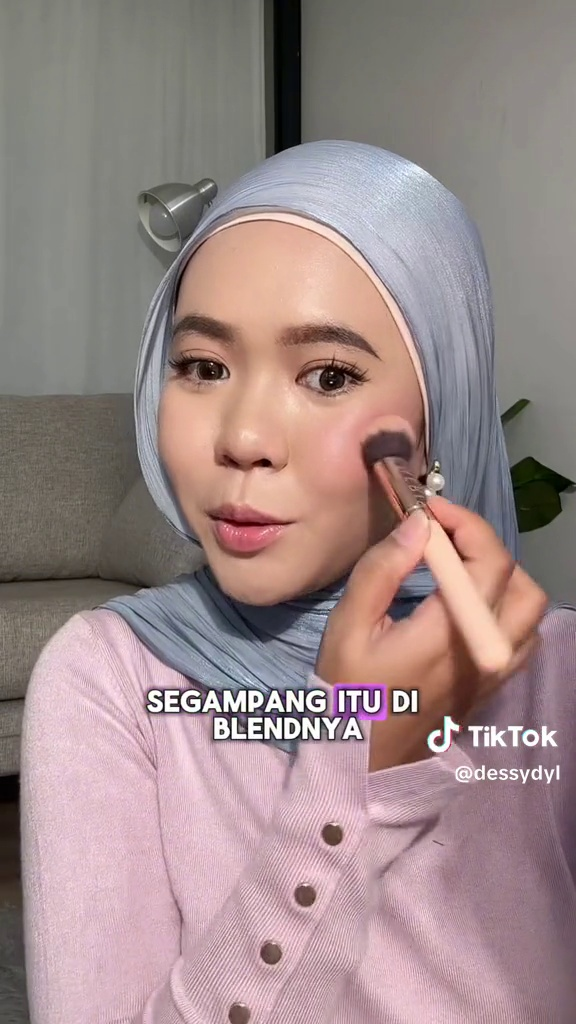train' :'yolo_data/train/images',: (349, 410, 518, 679)
